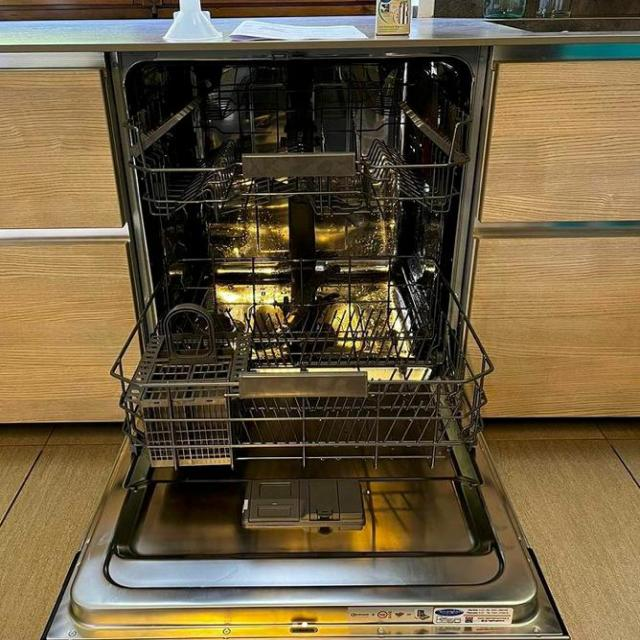dishwasher: (40, 51, 566, 639)
